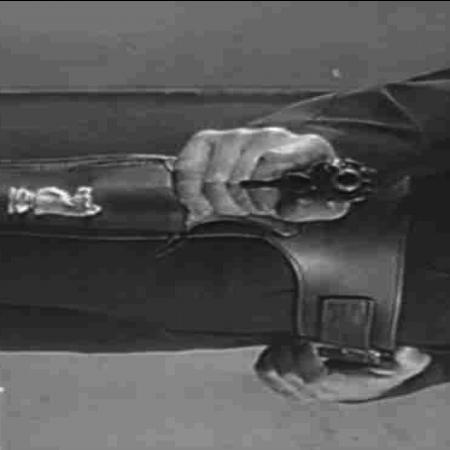Pistol: (234, 158, 381, 204)
